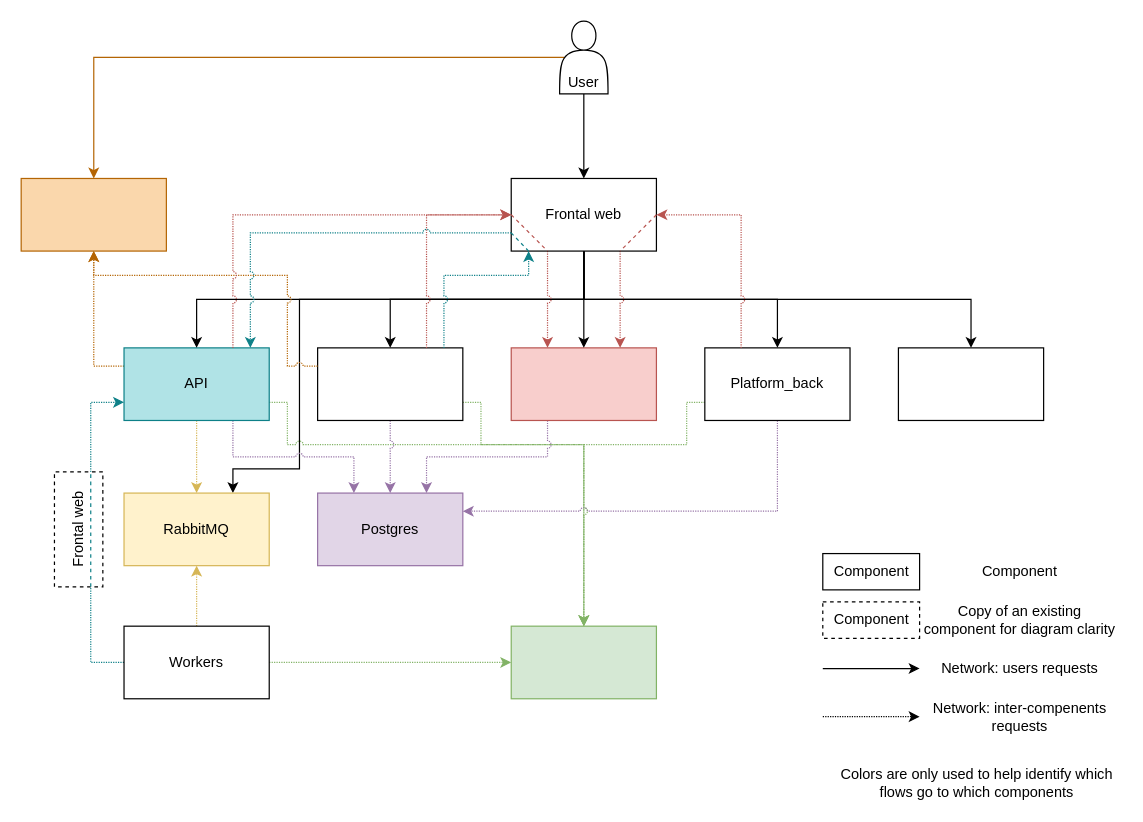
The diagram is 1143 pixels wide and 822 high, and some of its shapes have lost their labels. The shapes that lost their labels are listed below. From the top down, each one's centre as x and y in pixels, then its label:
At point (93, 214): "Object storage".
At point (389, 383): "Connect".
At point (583, 383): "Keycloak (iam)".
At point (970, 383): "Platform".
At point (583, 662): "SMTP".
